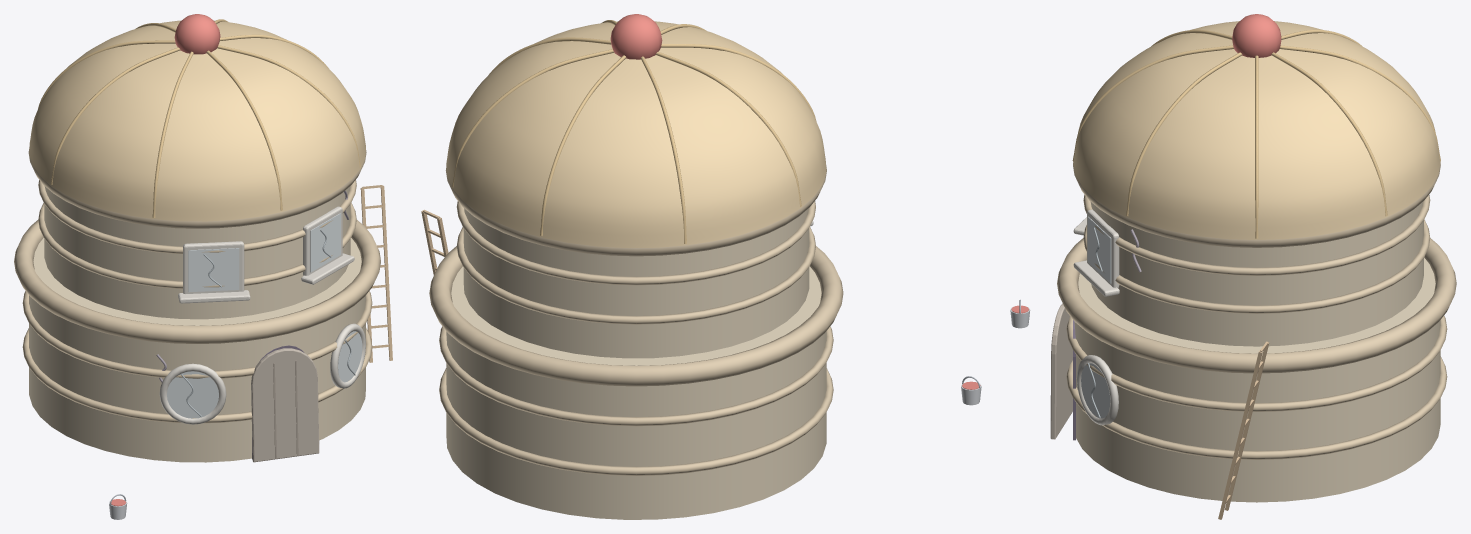
The model's file is building_dumpling_L03.glb.
3 views of the same model, side by side, from view 1: azimuth 30°, elevation 25°; view 2: azimuth 150°, elevation 25°; view 3: azimuth 270°, elevation 25° (orthographic). The views are drawn at different scales.
Parts seen in each view (by area): view 1: Body, dumpling_L3; view 2: Body, dumpling_L3; view 3: Body, dumpling_L3.
Part boxes in pixels (x1=…): Body: x1=14, y1=14, x2=380, y2=462; dumpling_L3: x1=109, y1=185, x2=392, y2=519; Body: x1=429, y1=14, x2=843, y2=519; dumpling_L3: x1=421, y1=209, x2=981, y2=405; Body: x1=1050, y1=14, x2=1456, y2=502; dumpling_L3: x1=1010, y1=299, x2=1269, y2=519.
Bounding box in the file's own units: 17.38 × 16.24 × 16.04.
